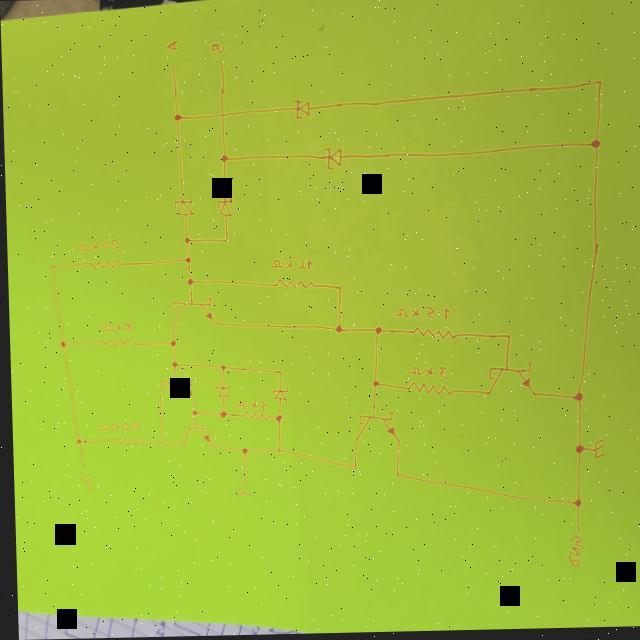crossover: (217, 110, 226, 120)
diode: (322, 147, 343, 171), (172, 196, 194, 217), (291, 99, 310, 121), (215, 196, 233, 218), (269, 386, 286, 403), (213, 384, 229, 398)
ground: (589, 439, 603, 461)
junction: (587, 139, 601, 153), (571, 444, 583, 458), (569, 392, 582, 404), (593, 78, 605, 90), (569, 499, 580, 510), (172, 111, 182, 123), (56, 338, 66, 349), (218, 154, 228, 164), (183, 276, 193, 286), (371, 326, 381, 336), (71, 435, 81, 445), (331, 325, 341, 334), (368, 380, 378, 389), (271, 414, 281, 423), (166, 339, 176, 348), (181, 236, 190, 245), (182, 256, 191, 265), (237, 447, 246, 455), (168, 360, 177, 368), (217, 410, 225, 418), (221, 237, 229, 245), (334, 284, 342, 292), (348, 462, 356, 470), (47, 262, 55, 270), (502, 333, 510, 341), (390, 471, 398, 479), (217, 364, 225, 371), (188, 409, 196, 416), (156, 439, 163, 445), (275, 369, 281, 375), (273, 447, 279, 453)
resistor: (404, 381, 452, 399), (406, 326, 456, 342), (270, 277, 313, 291), (84, 256, 121, 270), (238, 410, 267, 423), (98, 337, 135, 347), (112, 436, 142, 447)
terminal: (217, 60, 225, 69), (170, 63, 176, 70), (77, 462, 83, 468), (571, 528, 577, 534), (239, 480, 243, 486)
text: (390, 305, 452, 322), (74, 237, 121, 252), (266, 258, 312, 272), (404, 366, 446, 381), (94, 420, 140, 432), (564, 536, 580, 570), (230, 399, 265, 412), (96, 320, 131, 332), (75, 470, 91, 491), (163, 38, 180, 53), (232, 486, 249, 499), (210, 42, 225, 54)
transistor: (482, 363, 534, 400), (351, 410, 398, 445), (168, 295, 217, 328), (155, 378, 193, 402), (178, 424, 211, 449)
